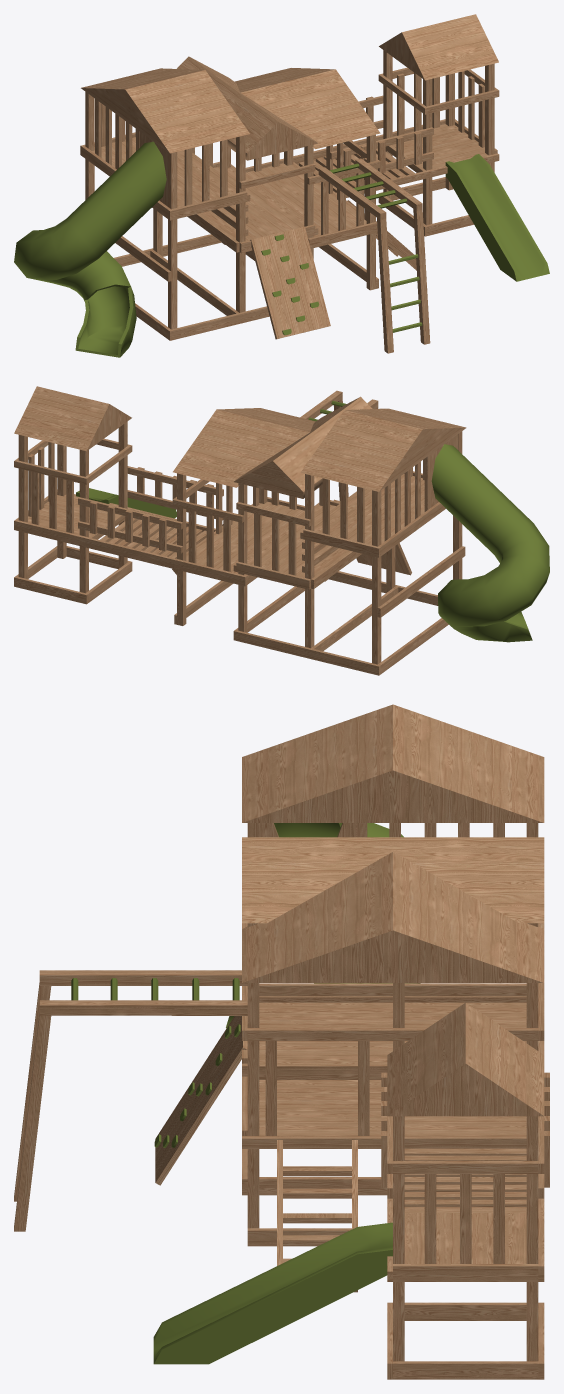
File: 105kidsplayground.glb
The picture shows the model from 3 angles, top to bottom: view 1: azimuth 30°, elevation 25°; view 2: azimuth 150°, elevation 25°; view 3: azimuth 270°, elevation 25°; orthographic projection. The views are drawn at different scales.
Visible parts, largest first — view 1: KidsPlayground; view 2: KidsPlayground; view 3: KidsPlayground.
Part boxes in pixels (x1,y1,x2,y2): KidsPlayground: (14, 14, 549, 357); KidsPlayground: (14, 386, 549, 675); KidsPlayground: (14, 704, 549, 1379).
Bounding box in the file's own units: 8.11 × 3.55 × 4.61.
Materials: 2 (1 with a texture image).
